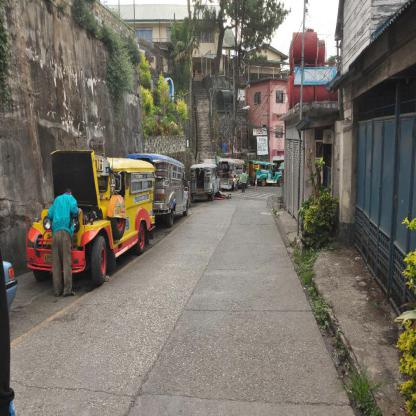Bus: (26, 158, 154, 286), (126, 155, 188, 224), (188, 162, 218, 200), (248, 161, 282, 185), (218, 160, 245, 188)
